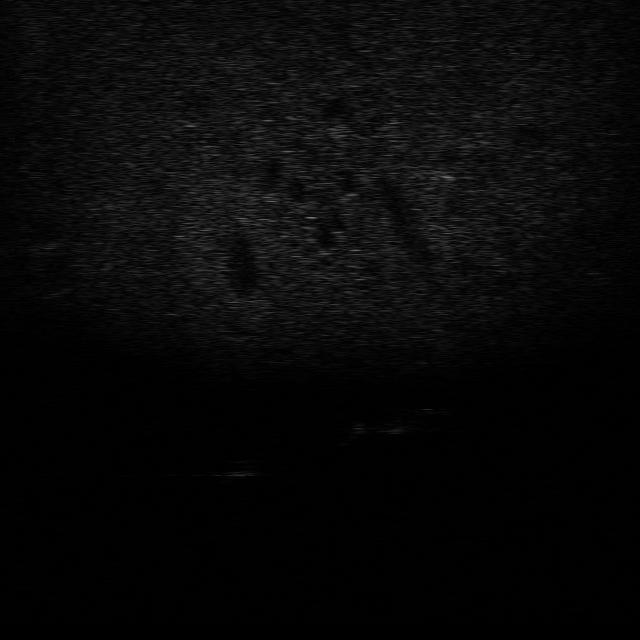ball: (211, 455, 260, 486)
human body: (335, 402, 447, 442)
